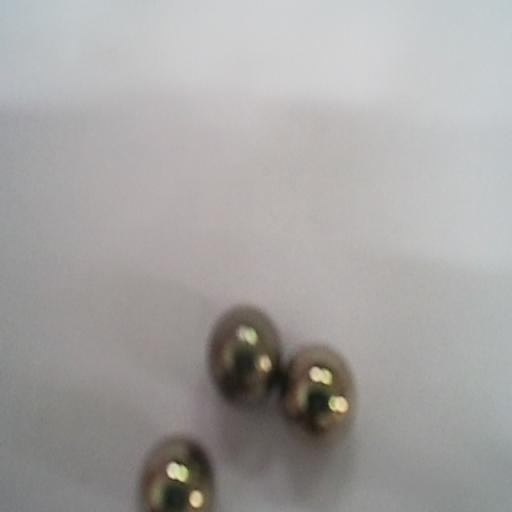steel-ball: (204, 298, 283, 410), (287, 335, 360, 442), (137, 423, 220, 512)
